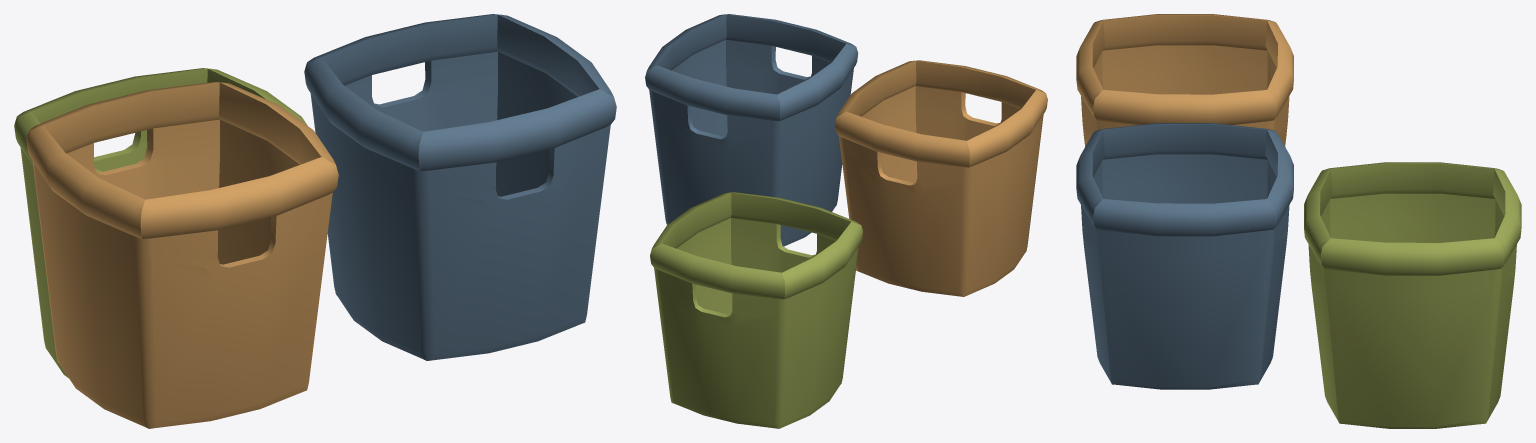
3 views of the same model, side by side, from view 1: azimuth 30°, elevation 25°; view 2: azimuth 150°, elevation 25°; view 3: azimuth 270°, elevation 25° (orthographic). The views are drawn at different scales.
Visible parts, largest first — view 1: Plastic Bin.002, Plastic Bin.003, Plastic Bin.001; view 2: Plastic Bin.001, Plastic Bin.002, Plastic Bin.003; view 3: Plastic Bin.001, Plastic Bin.003, Plastic Bin.002.
Boxes of the visible parts, x1,y1,x2,y2 form: Plastic Bin.002: (26, 82, 338, 428); Plastic Bin.003: (304, 14, 616, 360); Plastic Bin.001: (14, 68, 307, 378); Plastic Bin.001: (650, 192, 862, 428); Plastic Bin.002: (834, 60, 1047, 296); Plastic Bin.003: (645, 14, 858, 246); Plastic Bin.001: (1304, 162, 1521, 428); Plastic Bin.003: (1076, 123, 1293, 389); Plastic Bin.002: (1076, 14, 1293, 146).
Bounding box in the file's own units: 287 × 191 × 268.
